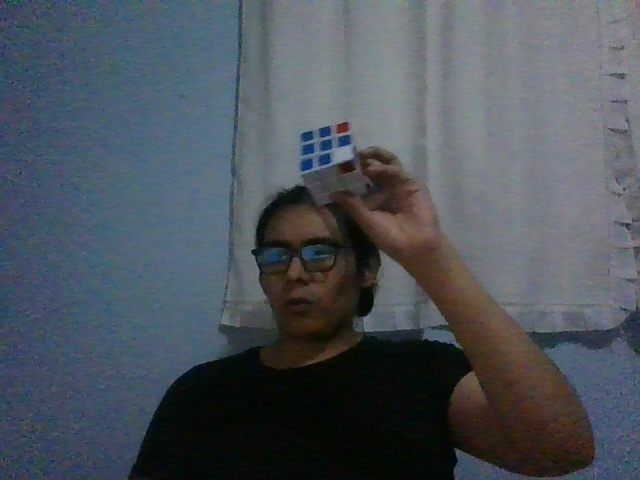rubik: (299, 122, 366, 208)
